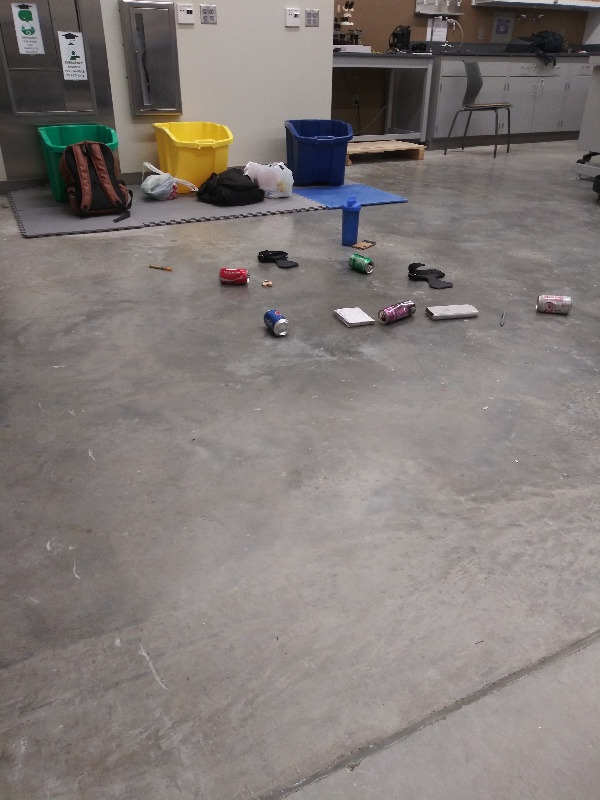can: (534, 292, 576, 321), (374, 298, 419, 325), (261, 306, 290, 339), (344, 249, 378, 277), (216, 265, 253, 287)
